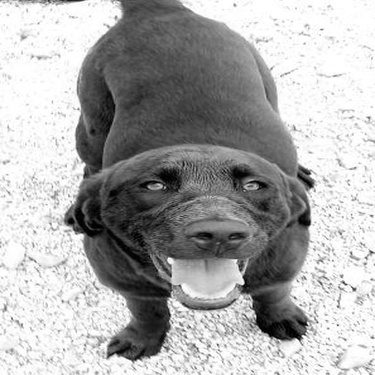dog: (60, 1, 320, 361)
